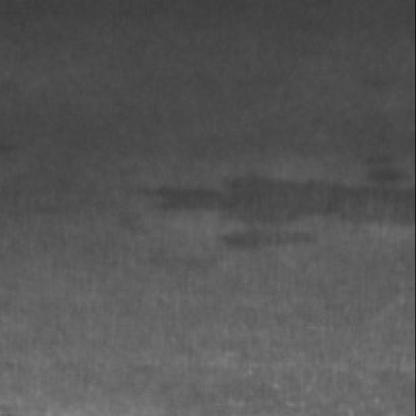inclusion: (141, 162, 410, 258)
